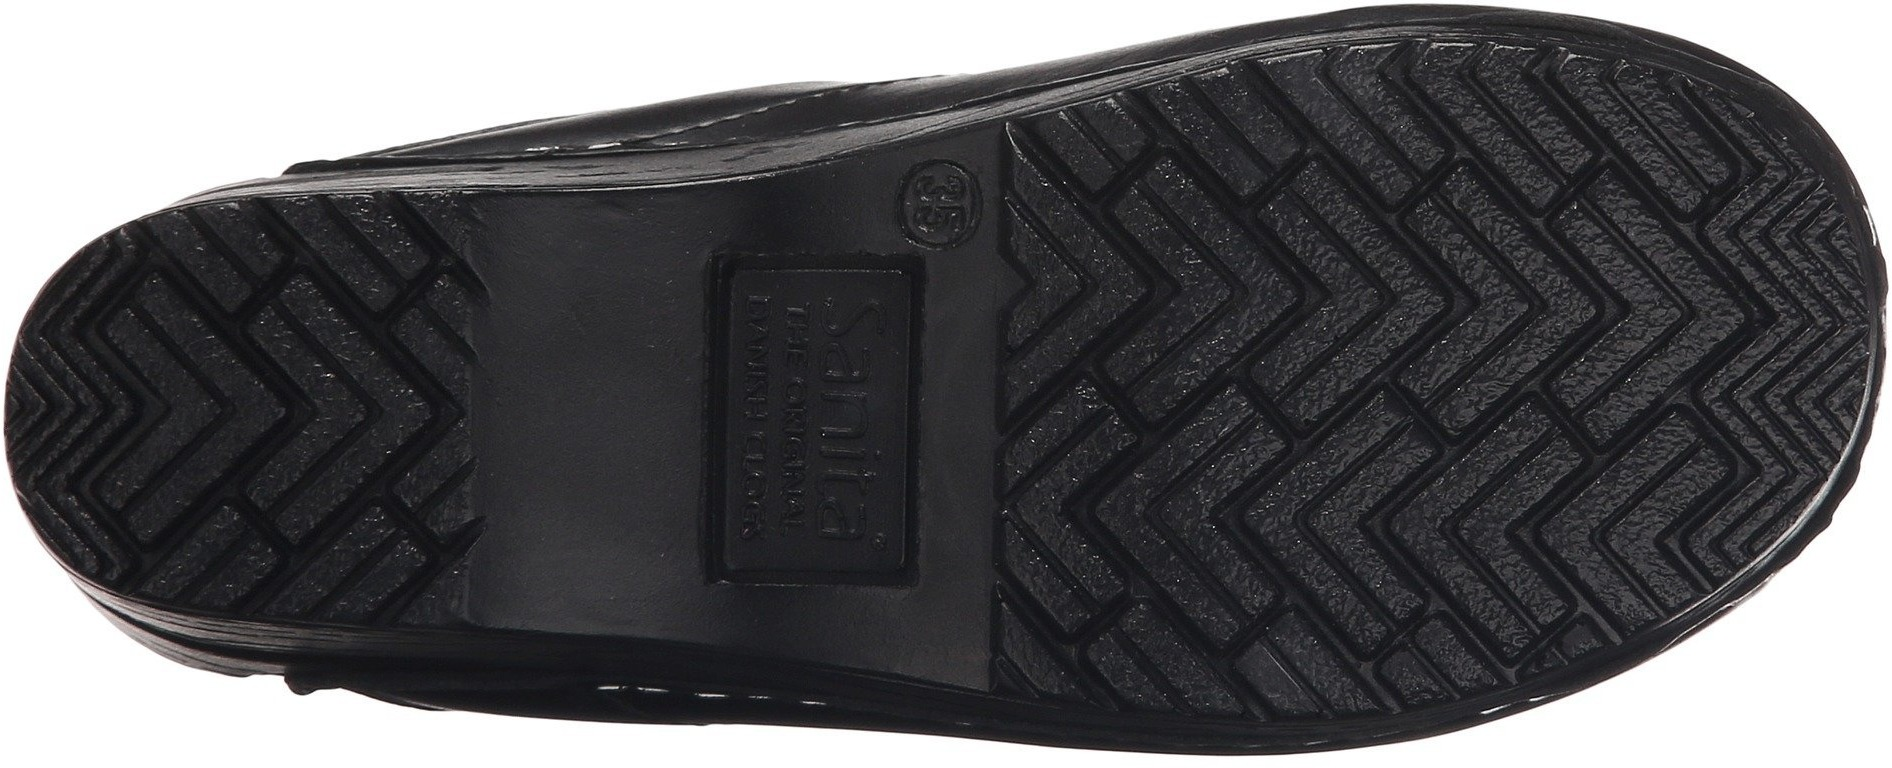chevron: (991, 114, 1579, 690), (217, 197, 478, 523), (1581, 185, 1833, 444), (21, 322, 218, 513), (280, 434, 471, 622), (1588, 449, 1732, 588)
circle: (888, 155, 989, 257)
exclude: (465, 190, 627, 634)
quad: (668, 245, 973, 594)
text: (668, 245, 973, 594), (719, 406, 919, 584), (729, 269, 911, 442), (888, 155, 989, 257), (904, 169, 973, 242)
